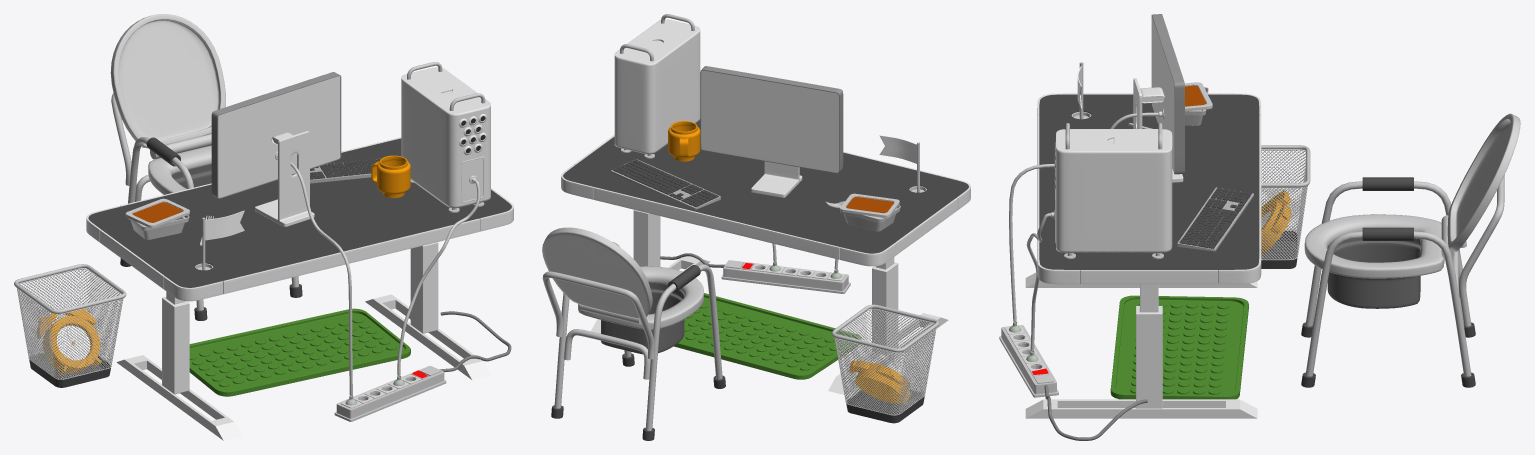
Rendered from workspace.glb.
3 renders of one model, left to right at view 1: azimuth 30°, elevation 25°; view 2: azimuth 150°, elevation 25°; view 3: azimuth 270°, elevation 25°, orthographic. The views are drawn at different scales.
Visible parts, largest first — view 1: Столечница, 1. Sit, 7. Cover, 4. PC, 12. Trash, Ножки.001, Display, 3. Table, 5. Monitor, 9. Clock, 13. Udlenitel, 8. Nudels (+13 smaller); view 2: Столечница, Display, 4. PC, 12. Trash, 7. Cover, 1. Sit, 3. Table, Ножки.001, 4.1. Ножки, 11. KeyBoard, 13. Udlenitel, 2. Стульчак (+11 smaller); view 3: Столечница, 4. PC, 7. Cover, Ножки.001, 12. Trash, 2. Стульчак, 3. Table, 1. Sit, 3. Тазик, 4.1. Ножки, 11. KeyBoard, Board (+12 smaller).
Part boxes in pixels (x1,y1,x2,y2): Столечница: (88,138,511,287); 1. Sit: (110,14,225,159); 7. Cover: (189,308,410,396); 4. PC: (401,67,490,208); 12. Trash: (14,264,126,387); Ножки.001: (116,242,490,440); Display: (218,76,340,197); 3. Table: (86,137,513,301); 5. Monitor: (255,131,314,226); 9. Clock: (37,309,101,375); 13. Udlenitel: (334,366,446,421); 8. Nudels: (125,198,189,239); Столечница: (563,120,968,253); Display: (701,70,838,172); 4. PC: (614,19,700,154); 12. Trash: (831,304,939,423); 7. Cover: (673,293,861,379); 1. Sit: (542,227,652,324); 3. Table: (561,135,970,266); Ножки.001: (591,209,948,394); 4.1. Ножки: (554,242,722,430); 11. KeyBoard: (611,159,720,209); 13. Udlenitel: (721,260,850,293); 2. Стульчак: (578,266,703,330); Столечница: (1039,94,1259,283); 4. PC: (1055,129,1172,252); 7. Cover: (1110,295,1248,399); Ножки.001: (1025,272,1257,418); 12. Trash: (1261,145,1310,268); 2. Стульчак: (1304,214,1444,278); 3. Table: (1037,93,1261,284); 1. Sit: (1441,113,1520,258); 3. Тазик: (1327,238,1420,308); 4.1. Ножки: (1305,181,1471,376); 11. KeyBoard: (1177,187,1253,251); Board: (1151,14,1184,174).
Size of the model in its own units: 4.26 by 2.8 by 4.53.
